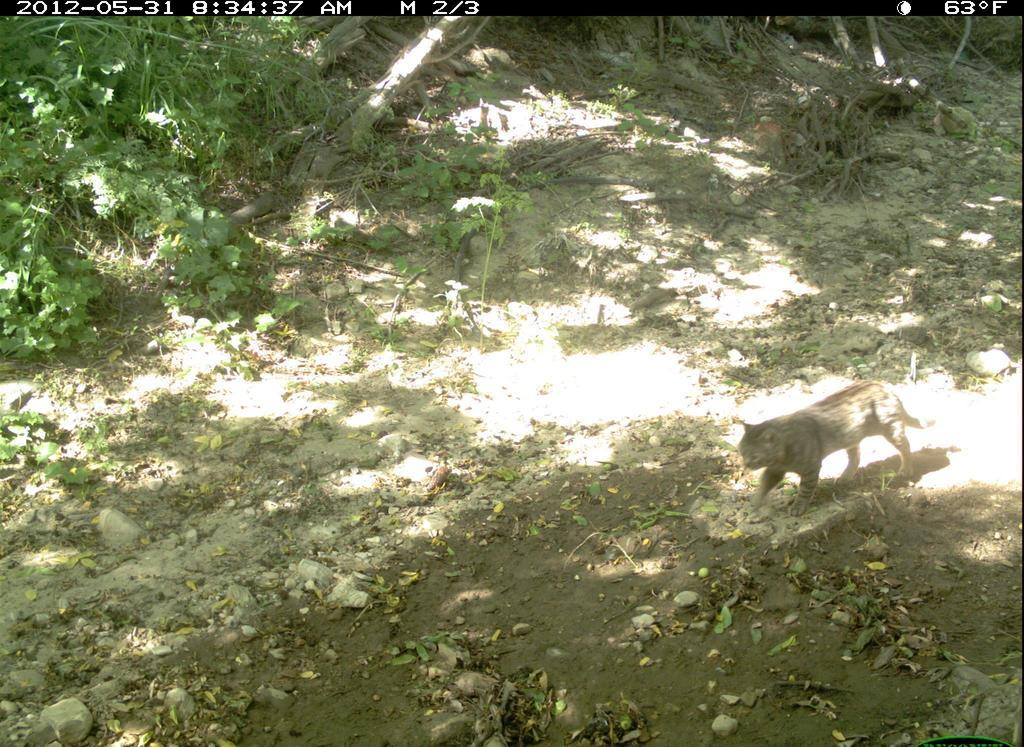cat: (737, 378, 945, 530)
